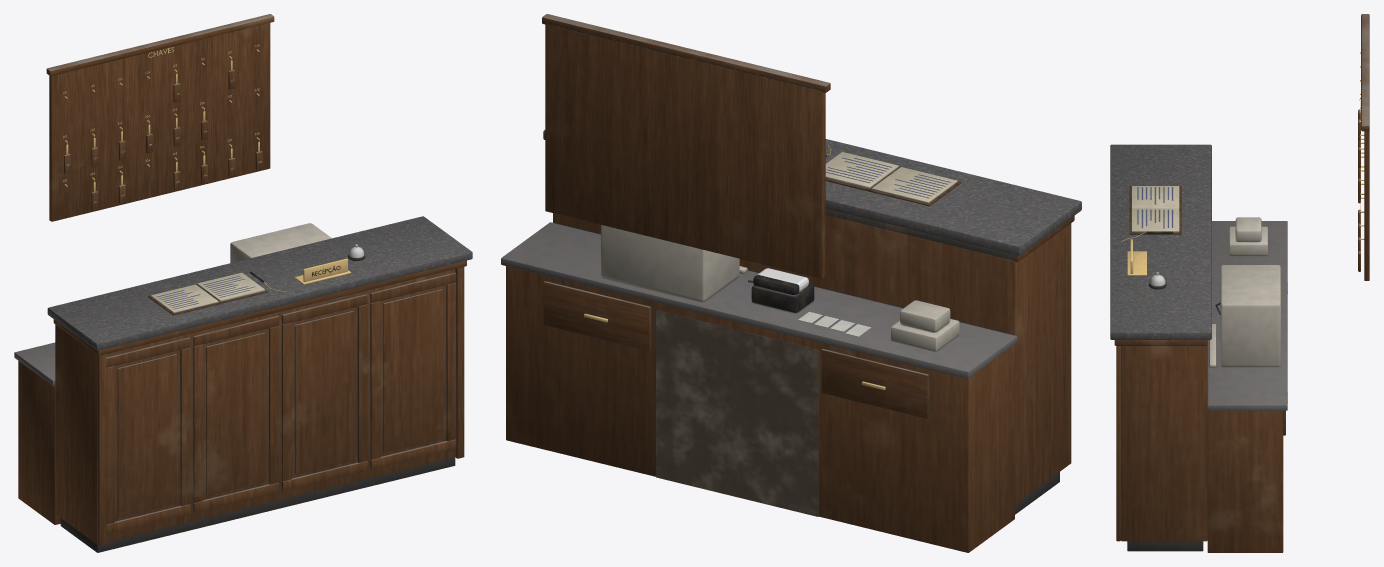
File: balcao_recepcao.glb
3 renders of one model, left to right at view 1: azimuth 30°, elevation 25°; view 2: azimuth 150°, elevation 25°; view 3: azimuth 270°, elevation 25°, orthographic. The views are drawn at different scales.
Visible parts, largest first — view 1: balcao, quadro_chaves; view 2: balcao, quadro_chaves; view 3: balcao, quadro_chaves.
Boxes of the visible parts, x1,y1,x2,y2 form: balcao: (14,216,472,552); quadro_chaves: (46,14,274,221); balcao: (501,130,1081,552); quadro_chaves: (542,14,830,278); balcao: (1110,144,1287,552); quadro_chaves: (1358,14,1369,280).
Size of the model in its own units: 2.06 by 2 by 1.2.
Materials: 3 (2 with a texture image).
